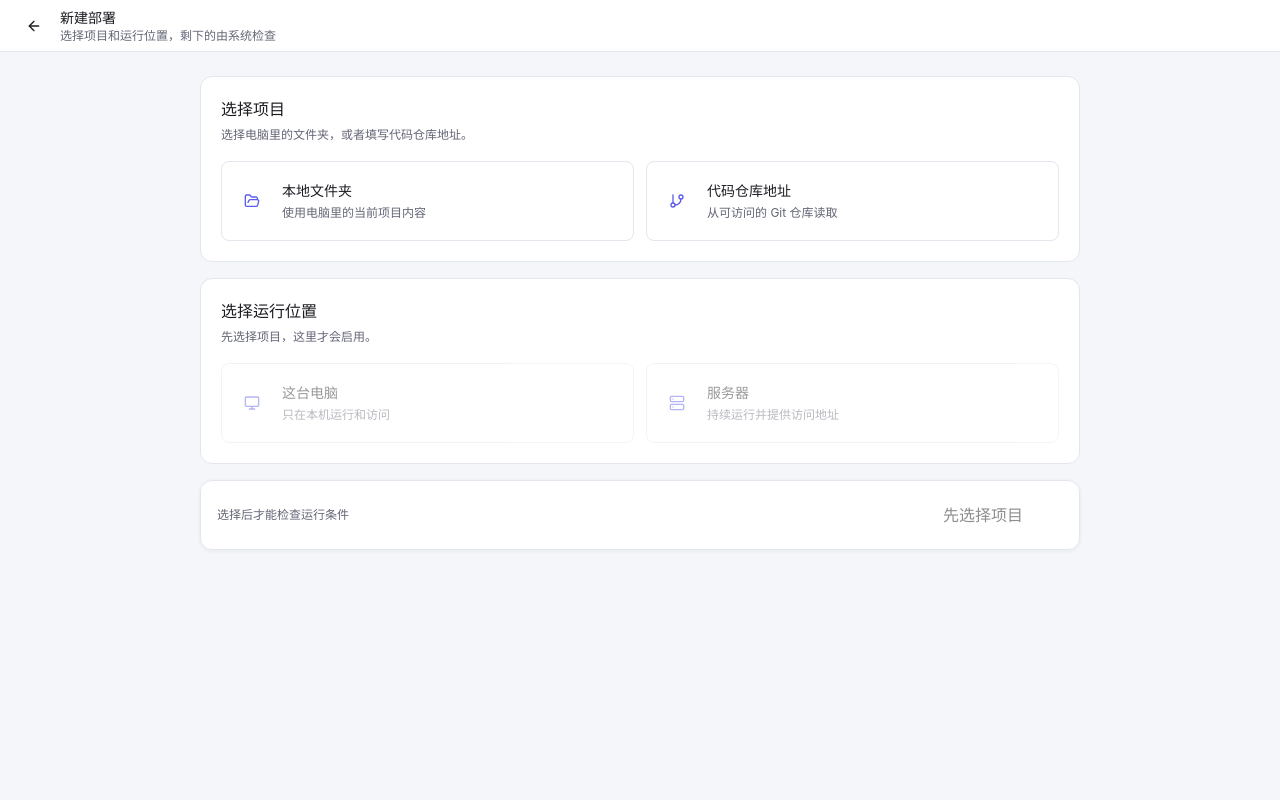
Scenario: DeploymentEditorController 地址恢复 › 临时域名被云厂商拦截时可直接打开当前线路并更换访问地址
The image size is (1280, 800).
Step 1. Click the button "本地文件夹 使用电脑里的当前项目内容" → (252, 201), box [221,161,634,241]
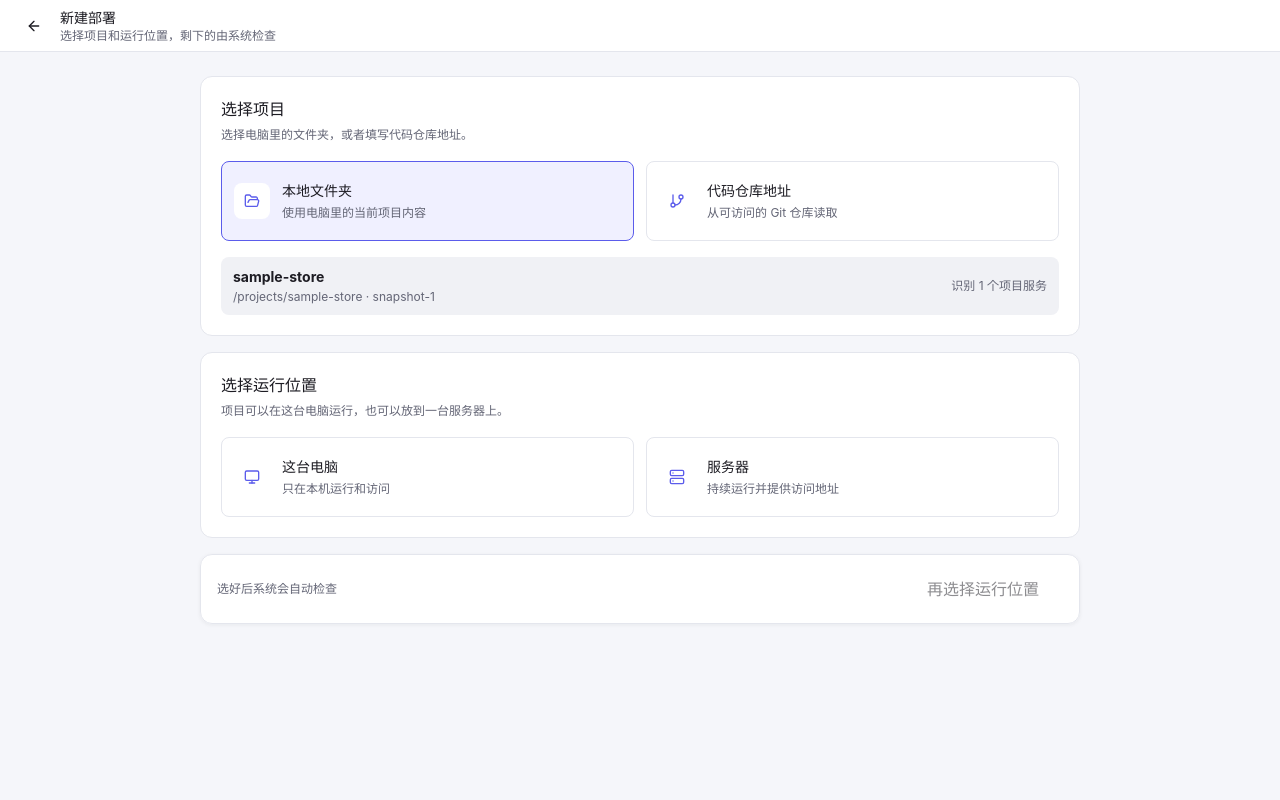
Now the text "/projects/sample-store" is shown, box [233,289,435,304]
Step 2. Click the button "服务器 持续运行并提供访问地址" → (677, 477), box [646,437,1059,517]
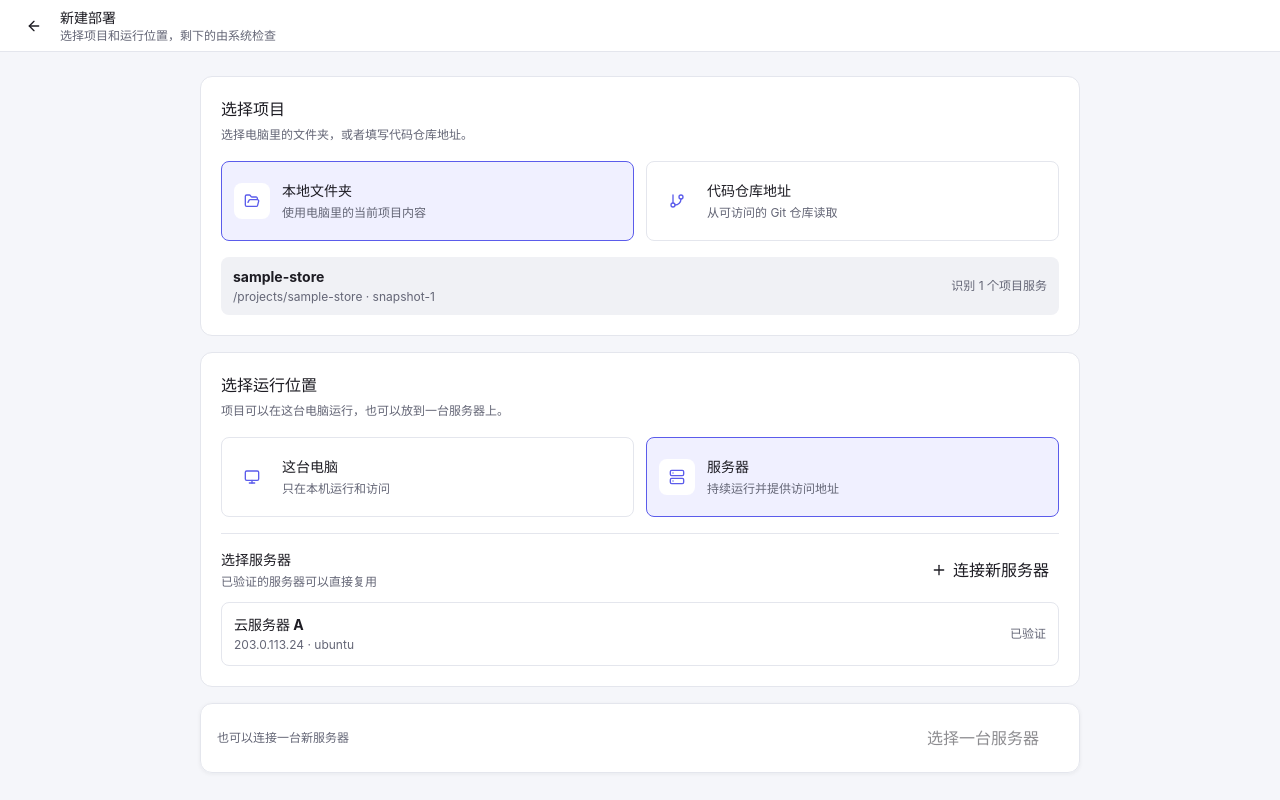
Step 3. Click the button "云服务器 A 203.0.113.24 · ubuntu 已验证" → (269, 624), box [221,602,1059,666]
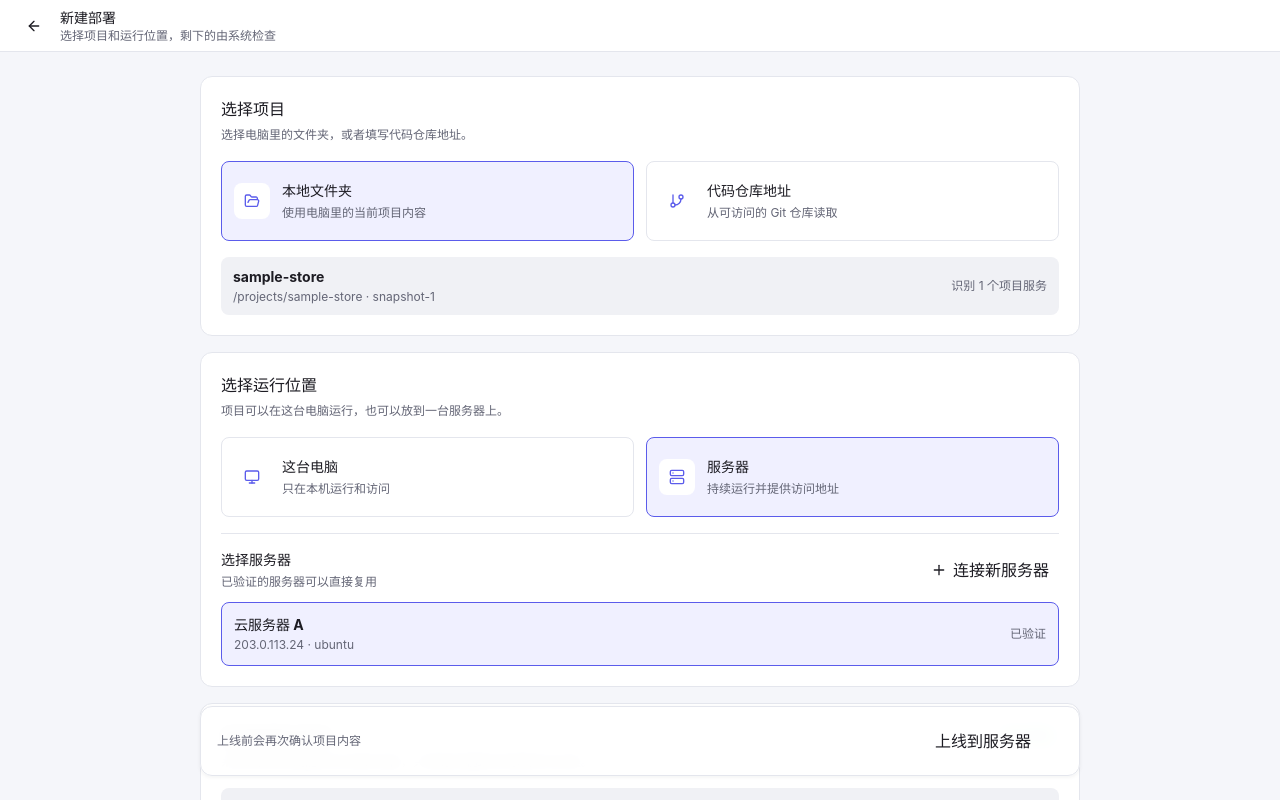
Step 4. Click the button "上线到服务器" → (983, 741), box [903,723,1063,759]
(page scrolled)
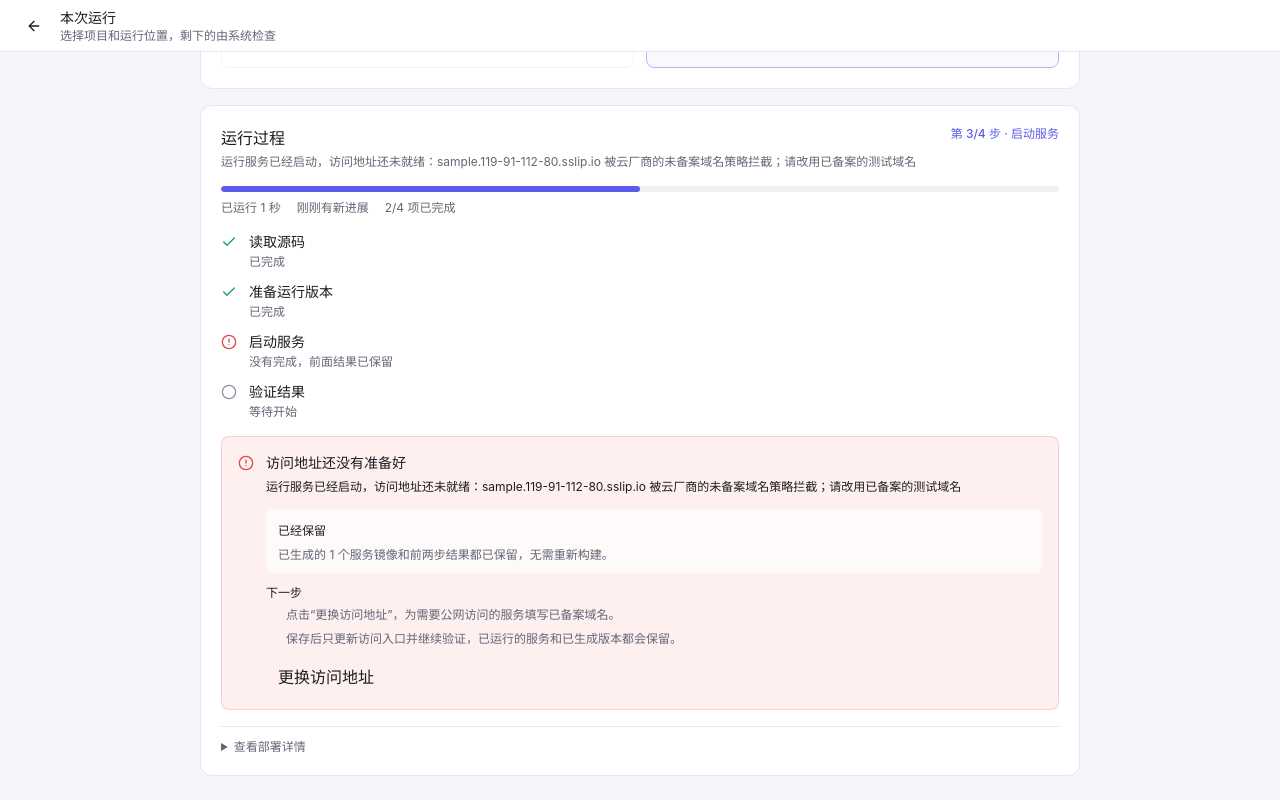
Step 5. Click the button "更换访问地址" → (326, 677), box [266,661,386,693]
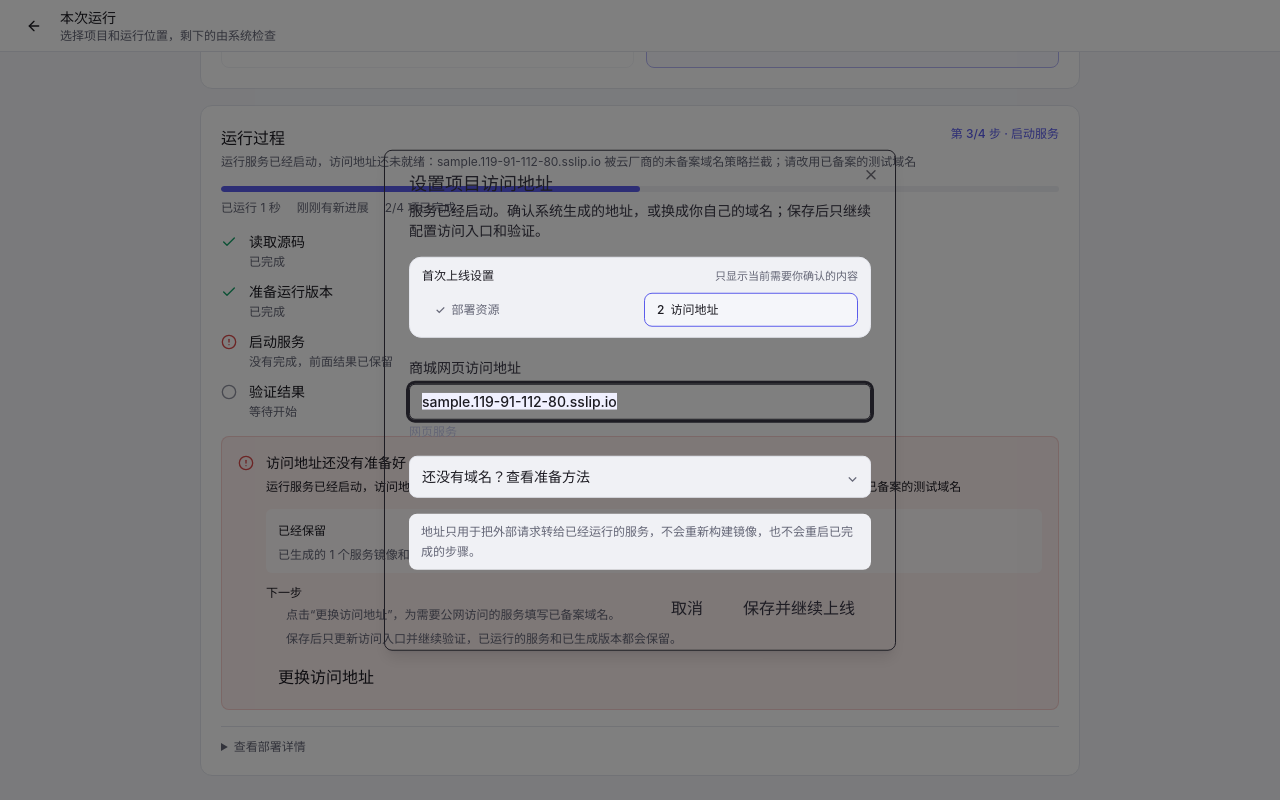
Now the heading "设置项目访问地址" is shown, box [409,173,553,194]
Now the field labelled "商城网页访问地址" holds "sample.119-91-112-80.sslip.io", box [409,383,871,419]
